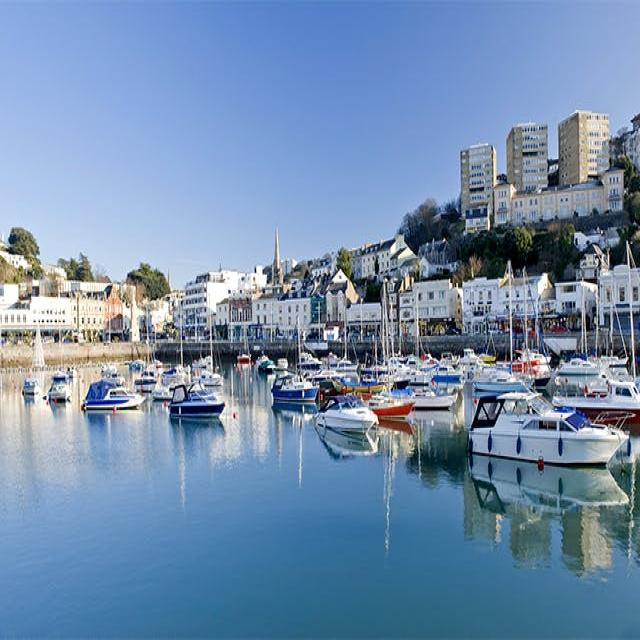houseboat: (462, 379, 617, 482), (310, 381, 382, 441), (158, 382, 222, 425), (74, 368, 132, 412)
